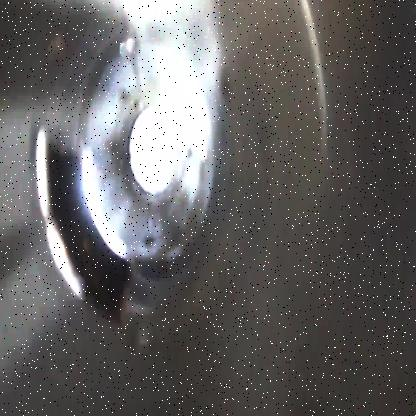Crack2: (34, 126, 136, 329)
